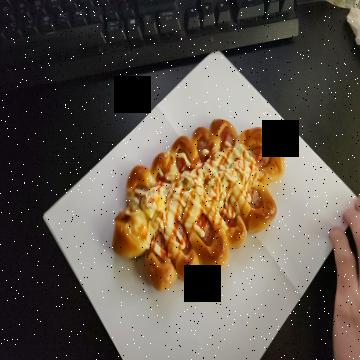pizza_bread: (112, 119, 285, 292)
